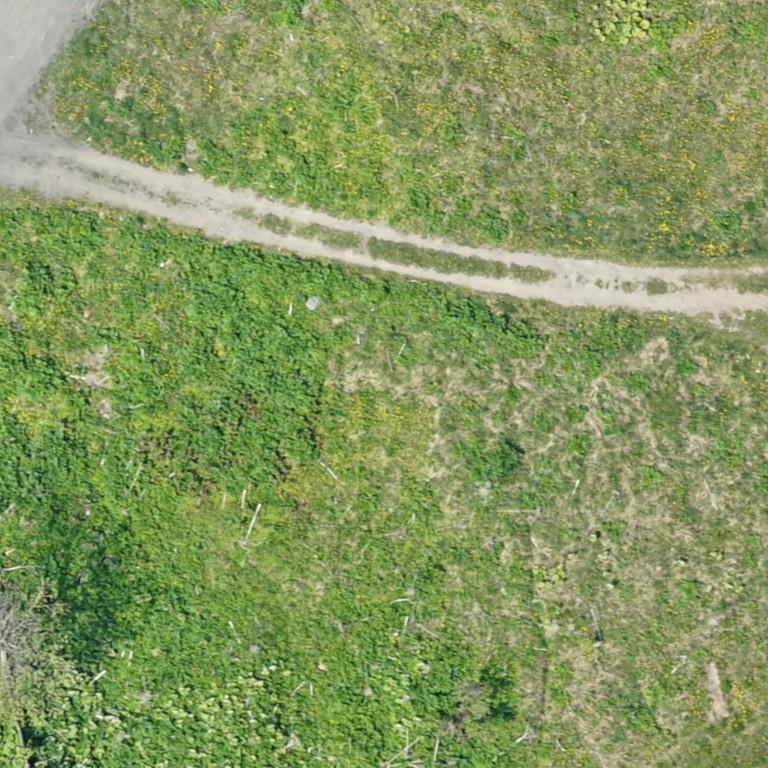hogweed: (122, 217, 540, 509), (0, 391, 287, 697), (0, 206, 103, 315), (0, 327, 65, 397), (488, 435, 517, 468)
